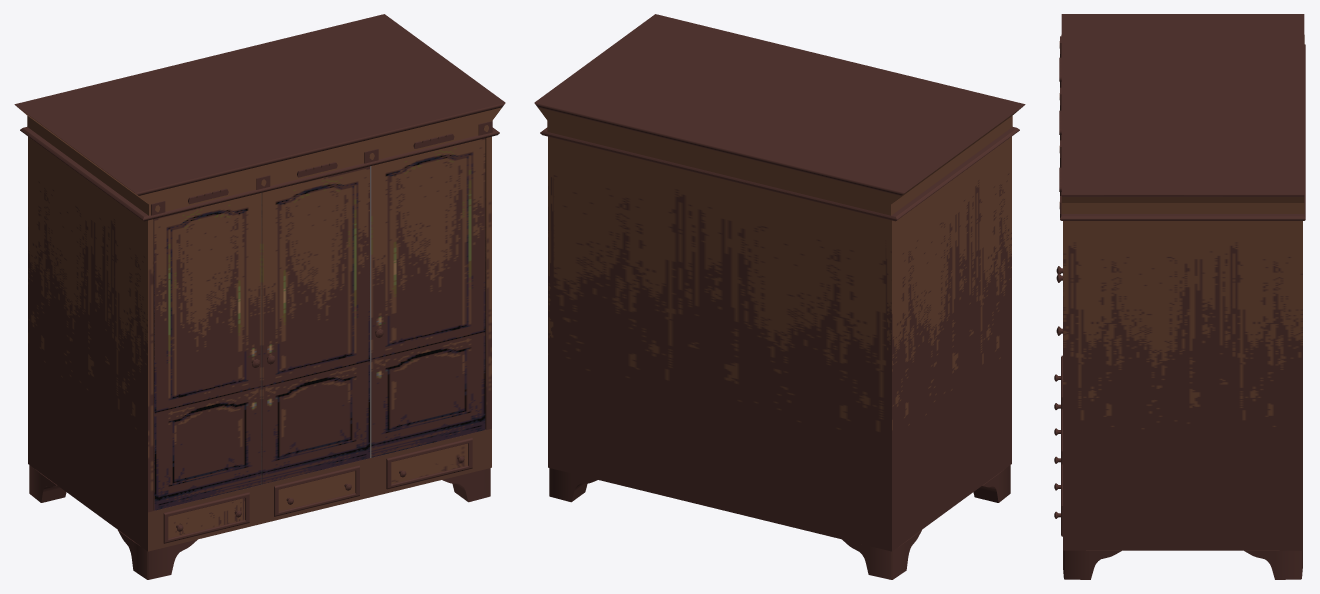
Rendered from szafa02.fbx.
3 views of the same model, side by side, from view 1: azimuth 30°, elevation 25°; view 2: azimuth 150°, elevation 25°; view 3: azimuth 270°, elevation 25° (orthographic).
Parts seen in each view (by area): view 1: Plane.030, Plane.022, Plane.023, Plane.025, Plane.024, Plane.021, Plane.029, Plane.027, Plane.047, Plane.049, Plane.048, Plane.008 (+2 smaller); view 2: Plane.022, Plane.030, Plane.021, Plane.029, Plane.027, Plane.020, Plane.019, Plane.008; view 3: Plane.022, Plane.030, Plane.021, Plane.029, Plane.027, Plane.019, Plane.018.
Part boxes in pixels (box(x1,y1,x2,y2)): Plane.030: box(14, 14, 505, 204); Plane.022: box(28, 136, 491, 512); Plane.023: box(370, 138, 485, 457); Plane.025: box(153, 193, 261, 510); Plane.024: box(261, 166, 369, 484); Plane.021: box(28, 425, 491, 551); Plane.029: box(27, 116, 492, 215); Plane.027: box(20, 127, 499, 221); Plane.047: box(386, 438, 472, 489); Plane.049: box(163, 492, 249, 543); Plane.048: box(274, 465, 359, 516); Plane.008: box(118, 530, 197, 579); Plane.022: box(548, 136, 1011, 512); Plane.030: box(534, 14, 1025, 204); Plane.021: box(548, 425, 1011, 551); Plane.029: box(547, 116, 1012, 215); Plane.027: box(540, 127, 1019, 221); Plane.020: box(842, 530, 921, 579); Plane.019: box(549, 468, 597, 502); Plane.008: box(973, 465, 1010, 502); Plane.022: box(1063, 221, 1302, 511); Plane.030: box(1061, 14, 1304, 202); Plane.021: box(1063, 511, 1302, 550); Plane.029: box(1061, 35, 1304, 213); Plane.027: box(1060, 44, 1305, 220); Plane.019: box(1244, 550, 1302, 579); Plane.018: box(1063, 550, 1121, 579).
Size of the model in its own units: 646 by 652 by 380.
